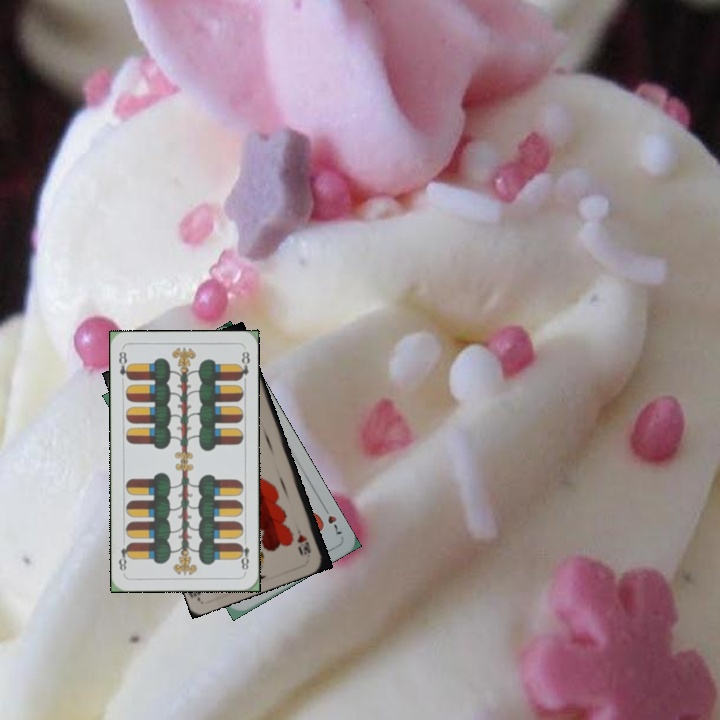E8: (235, 534, 252, 575), (114, 347, 133, 383)
H10: (291, 519, 314, 557)
H7: (319, 502, 345, 537)
